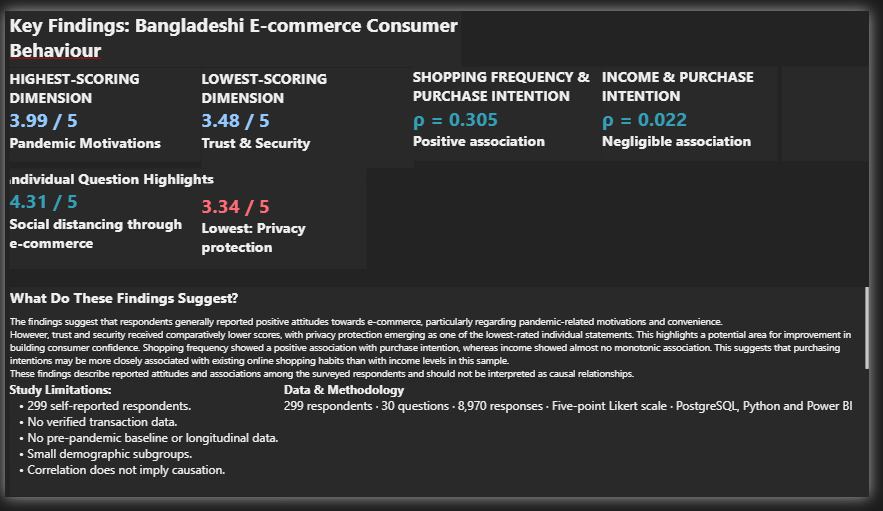

What the dashboard file says about the page in this screenshot:
{"tool":"powerbi","page":{"name":"Page 4","canvas":[1920,1080],"ordinal":3},"visuals":[{"type":"textbox","box":[10,0,1004,124],"z":0},{"type":"textbox","box":[10,125.6,424.4,207.8],"z":1},{"type":"textbox","box":[435,125,471.7,223.3],"z":2},{"type":"textbox","box":[906.7,123.3,418.3,210],"z":3},{"type":"textbox","box":[1325,123.3,390,210],"z":4},{"type":"textbox","box":[10,350,793.3,223.3],"z":5},{"type":"textbox","box":[436.7,383.3,366.7,190],"z":6},{"type":"textbox","box":[10,824.4,610,255.6],"z":7},{"type":"textbox","box":[1725,123,195,210],"z":8},{"type":"textbox","box":[10,614,1910,210],"z":9},{"type":"textbox","box":[620,824,1300,256],"z":10}]}

Visuals, with their boxes in screenshot pixels (x1, y1, x2, y2), scaled from the page's 1920x1080 canvas onto the 883x511 screenshot:
textbox: bbox=[5, 0, 466, 59]
textbox: bbox=[5, 59, 200, 158]
textbox: bbox=[200, 59, 417, 165]
textbox: bbox=[417, 58, 609, 158]
textbox: bbox=[609, 58, 789, 158]
textbox: bbox=[5, 166, 369, 271]
textbox: bbox=[201, 181, 369, 271]
textbox: bbox=[5, 390, 285, 510]
textbox: bbox=[793, 58, 882, 158]
textbox: bbox=[5, 291, 882, 390]
textbox: bbox=[285, 390, 882, 510]
